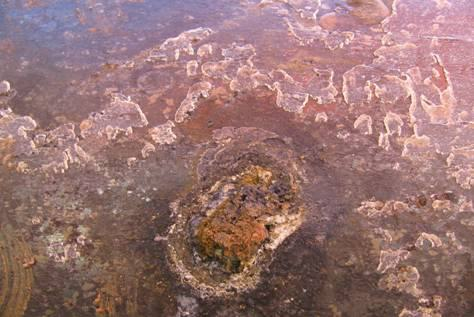Corrosion: (1, 1, 474, 317)
